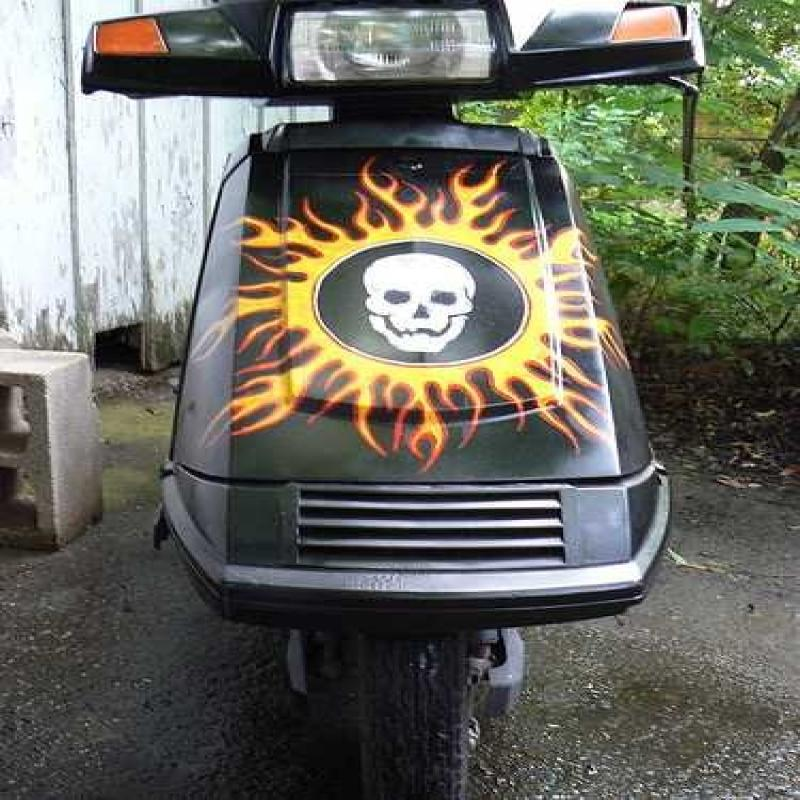bike: (74, 0, 728, 800)
